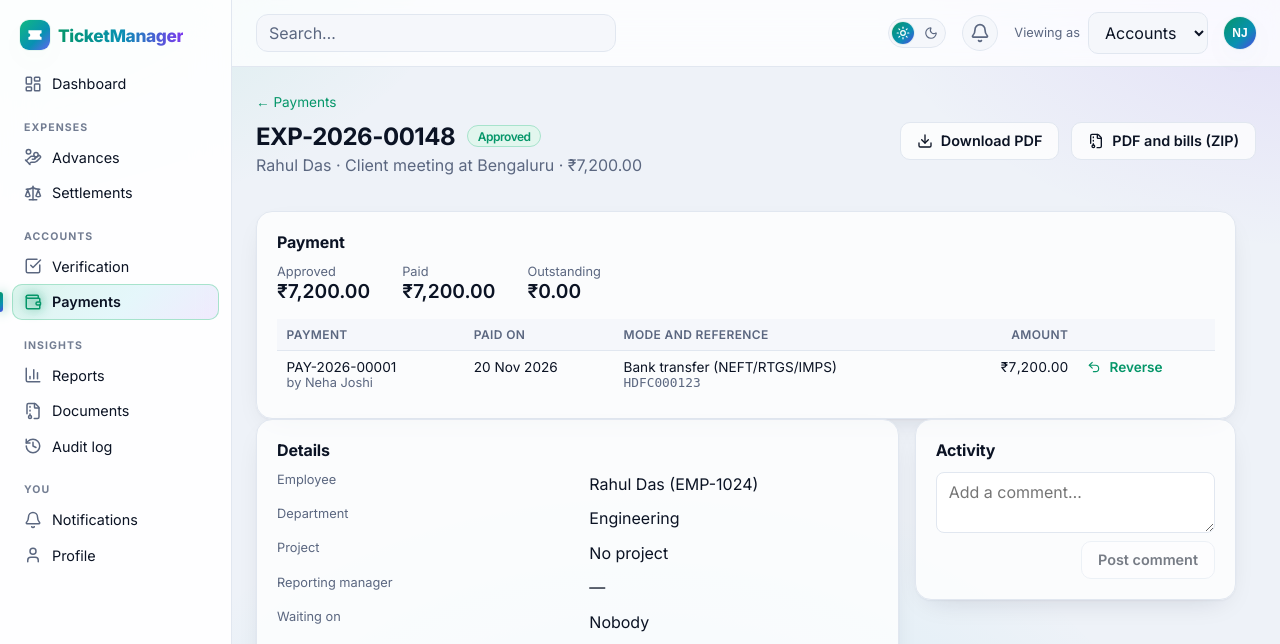
Test case: Paying a voucher › reverses a payment with a reason
The image size is (1280, 644).
Click the button "Reverse": (1125, 367) [1088,359,1163,375]
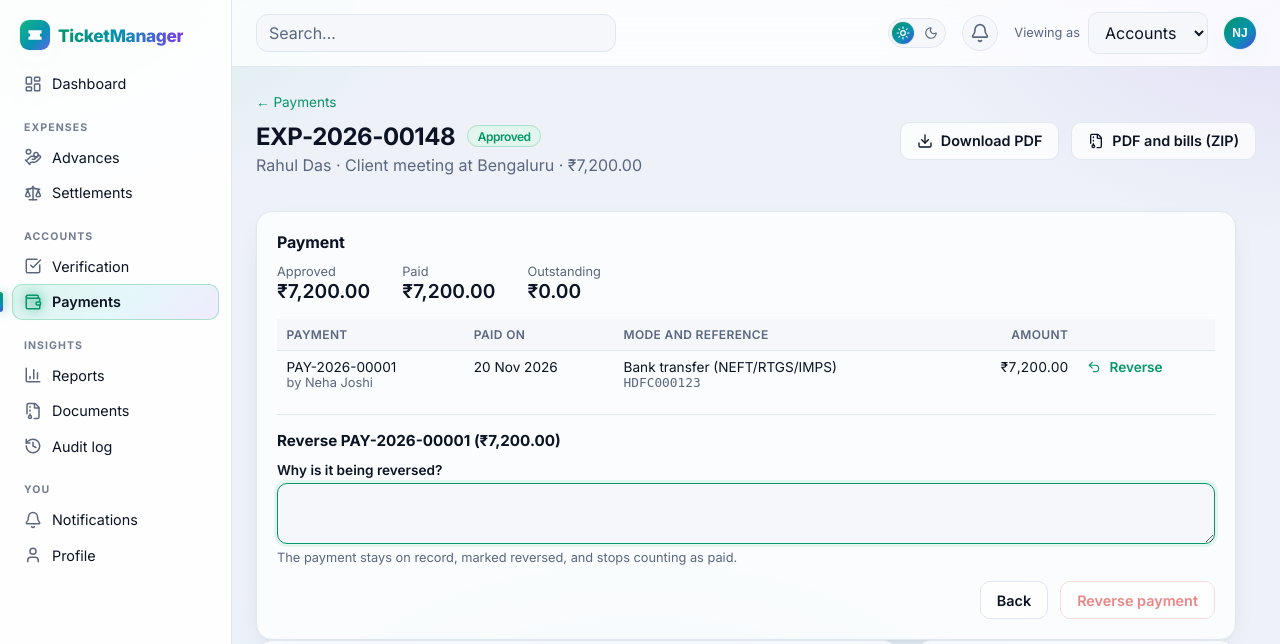
In the text box labelled "Why is it being reversed?": (746, 514) [277,483,1215,544], type "Wrong account"
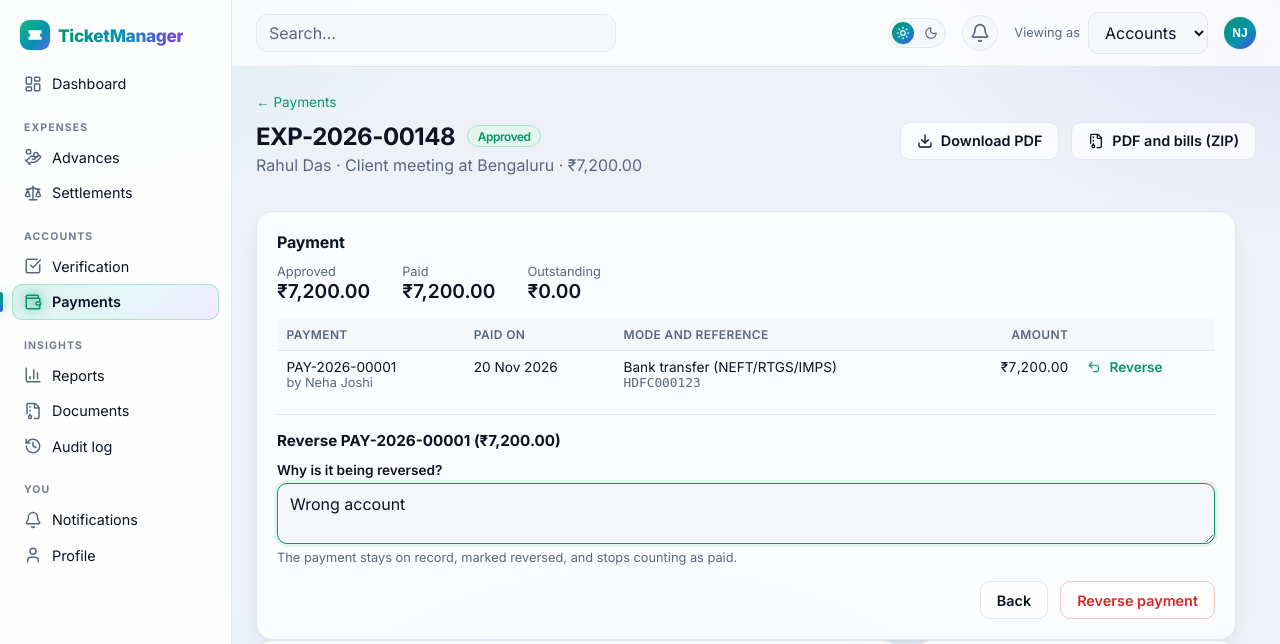
Click the button "Reverse payment": (1138, 600) [1060,581,1215,619]
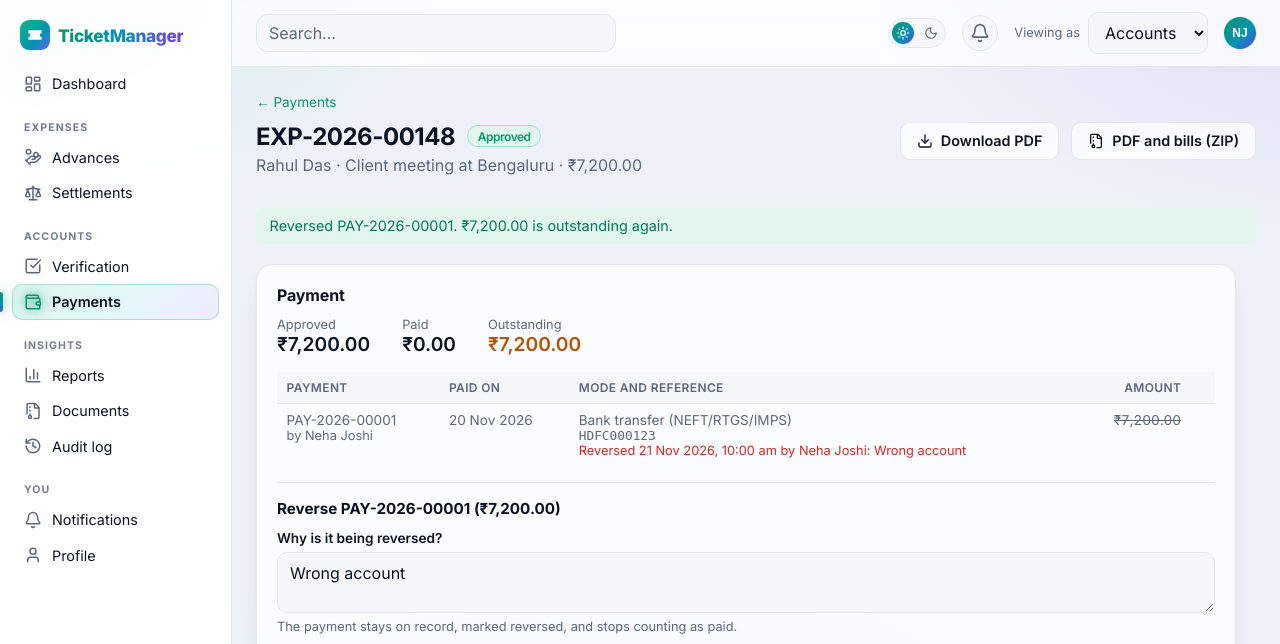
Result: the text "Reversed PAY-2026-00001. ₹7,200.00 is outstanding again." is shown at [256,207,1256,244]
Result: the text "Reversed 21 Nov 2026, 10:00 am by Neha Joshi: Wrong account" is shown at [579,443,966,458]
